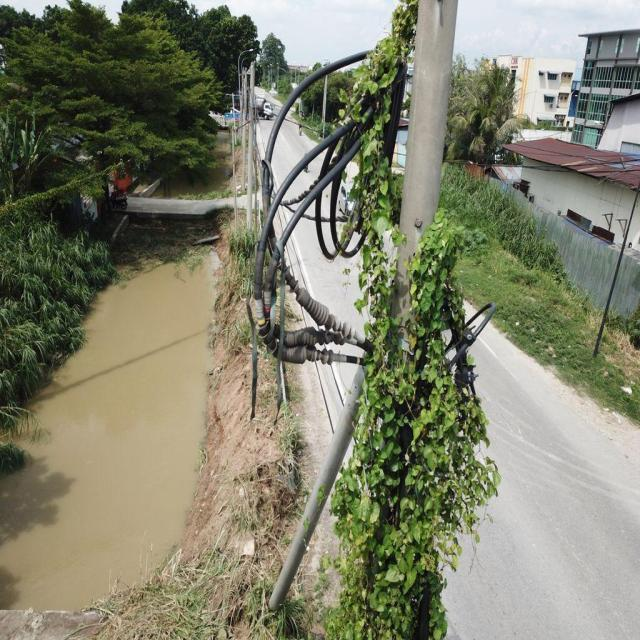critical vegetation: (320, 22, 504, 628)
